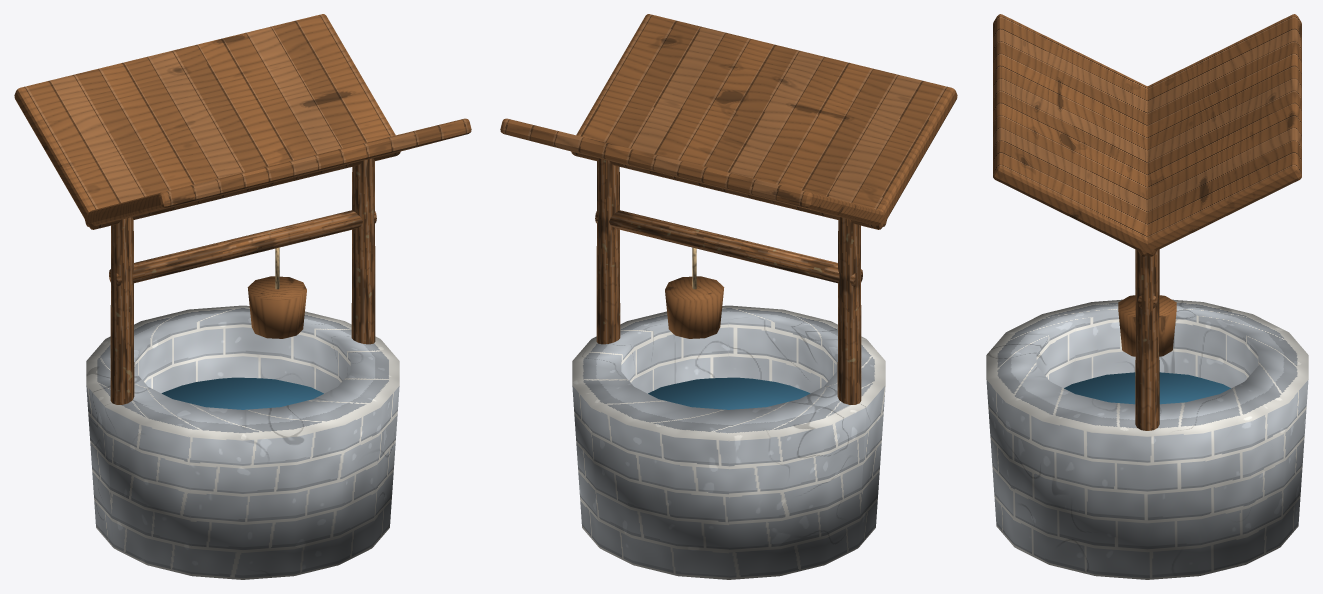
Rendered from well.glb.
3 views of the same model, side by side, from view 1: azimuth 30°, elevation 25°; view 2: azimuth 150°, elevation 25°; view 3: azimuth 270°, elevation 25° (orthographic). The views are drawn at different scales.
Parts seen in each view (by area): view 1: Well; view 2: Well; view 3: Well.
Boxes of the visible parts, <box> form: Well: <box>14,14,471,579</box>; Well: <box>500,14,957,579</box>; Well: <box>986,14,1308,579</box>.
Size of the model in its own units: 1.8 by 2.29 by 1.58.
Materials: 1 (1 with a texture image).
